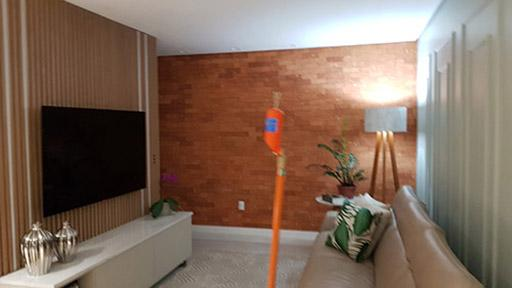Detector_Tensao_Contato: (263, 90, 286, 159)
Vara_Manobra: (265, 153, 289, 288)
